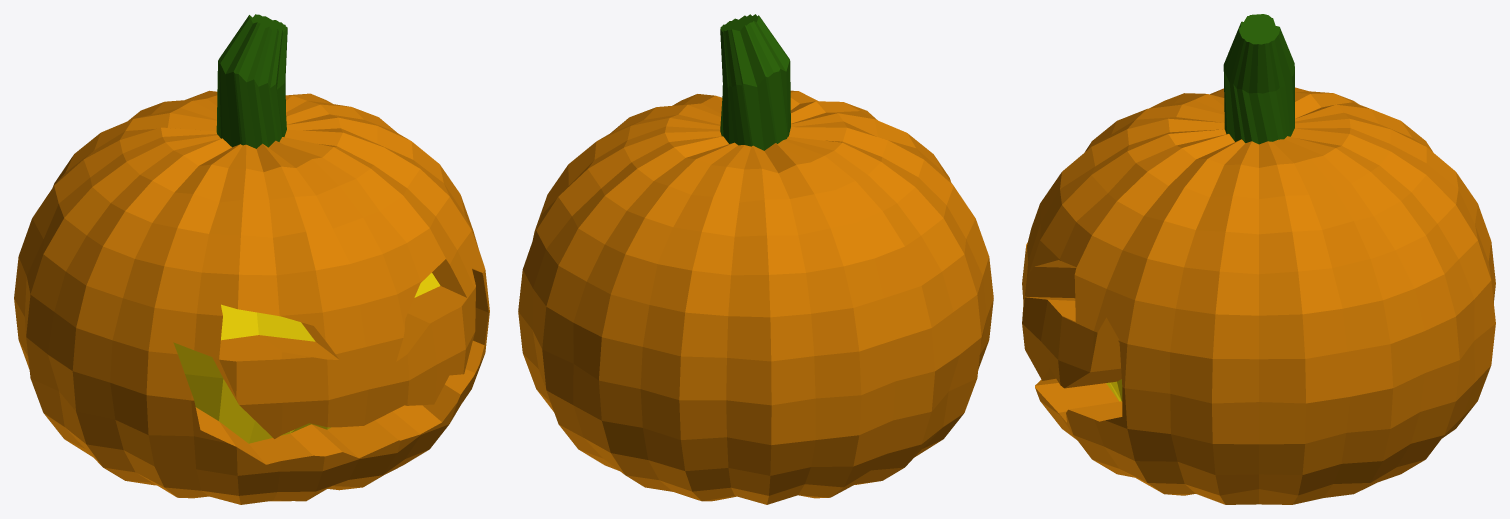
File: pumpkin_low_poly.glb
The picture shows the model from 3 angles, left to right: view 1: azimuth 30°, elevation 25°; view 2: azimuth 150°, elevation 25°; view 3: azimuth 270°, elevation 25°; orthographic projection.
Parts seen in each view (by area): view 1: Sphere; view 2: Sphere; view 3: Sphere.
Part boxes in pixels (x1=…): Sphere: x1=14, y1=14, x2=489, y2=504; Sphere: x1=518, y1=14, x2=993, y2=504; Sphere: x1=1022, y1=14, x2=1495, y2=504.
Bounding box in the file's own units: 2.07 × 2.13 × 2.07.
